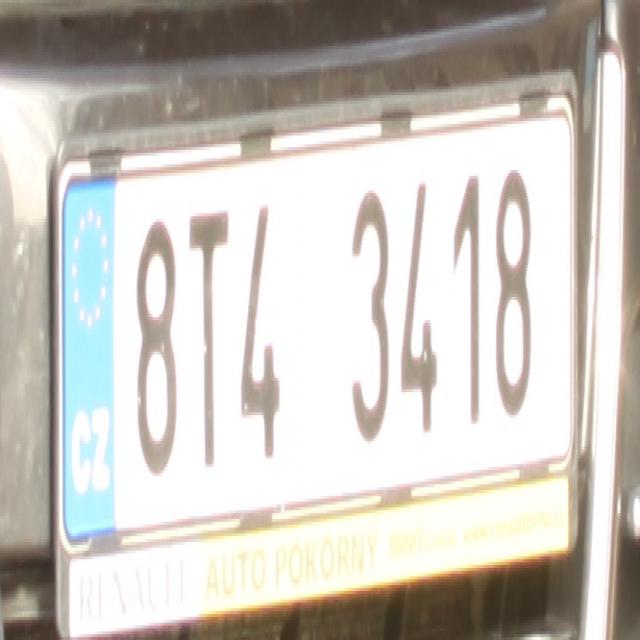1: (449, 170, 484, 433)
3: (349, 182, 393, 444)
4: (238, 193, 282, 467), (397, 168, 437, 436)
8: (132, 210, 178, 482), (492, 161, 534, 421)
T: (186, 199, 233, 473)
